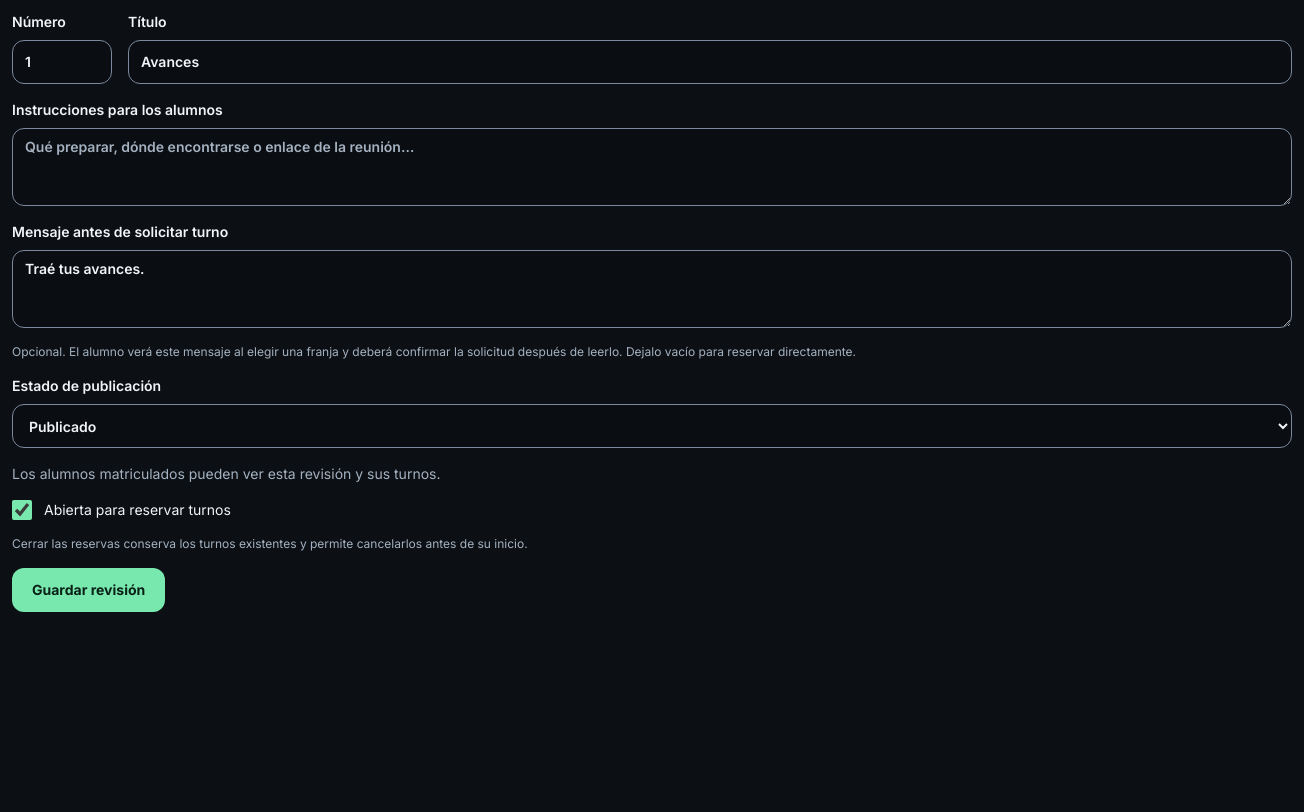
Test: formularios de revisiones › permite consultar y quitar un mensaje existente
Clear the text box labelled "Mensaje antes de solicitar turno": [652, 289] box [12,250,1292,328]
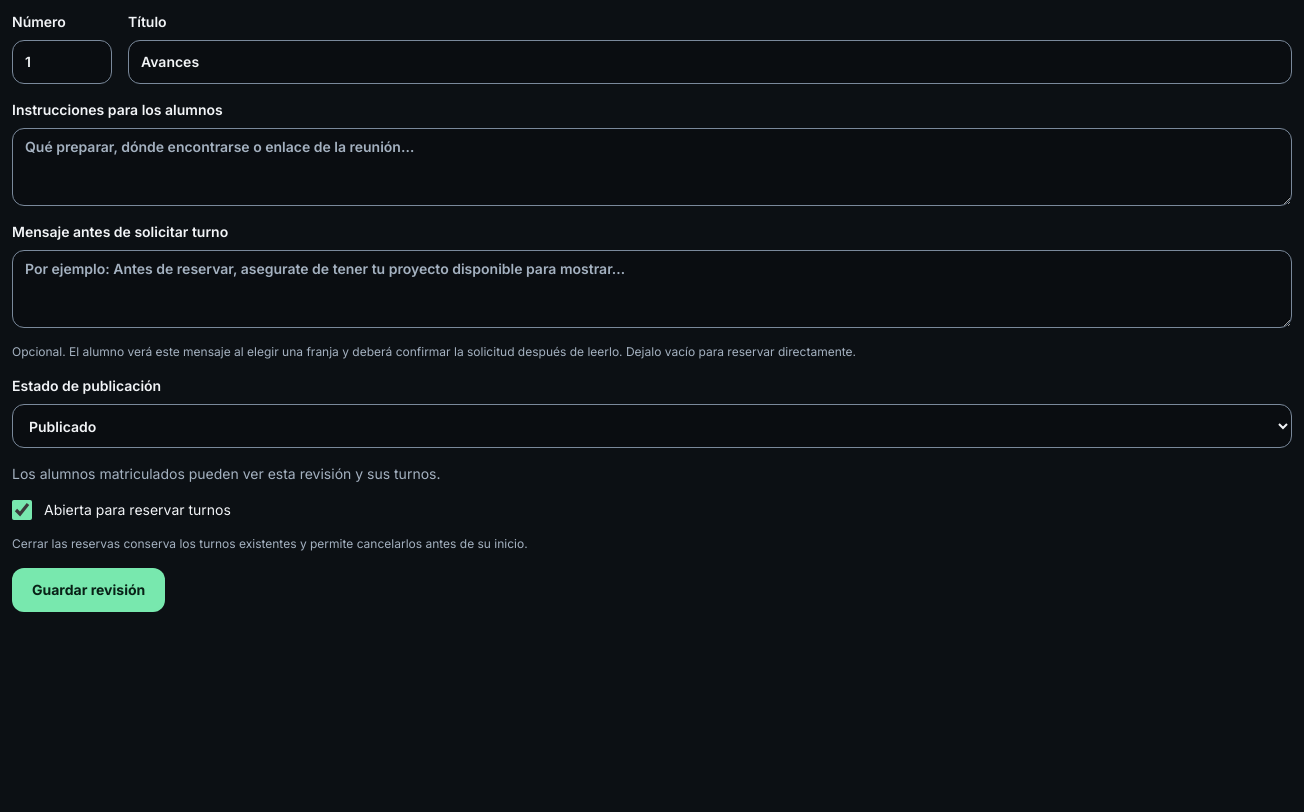
Click the button "Guardar revisión": [89, 590] box [12,568,165,612]
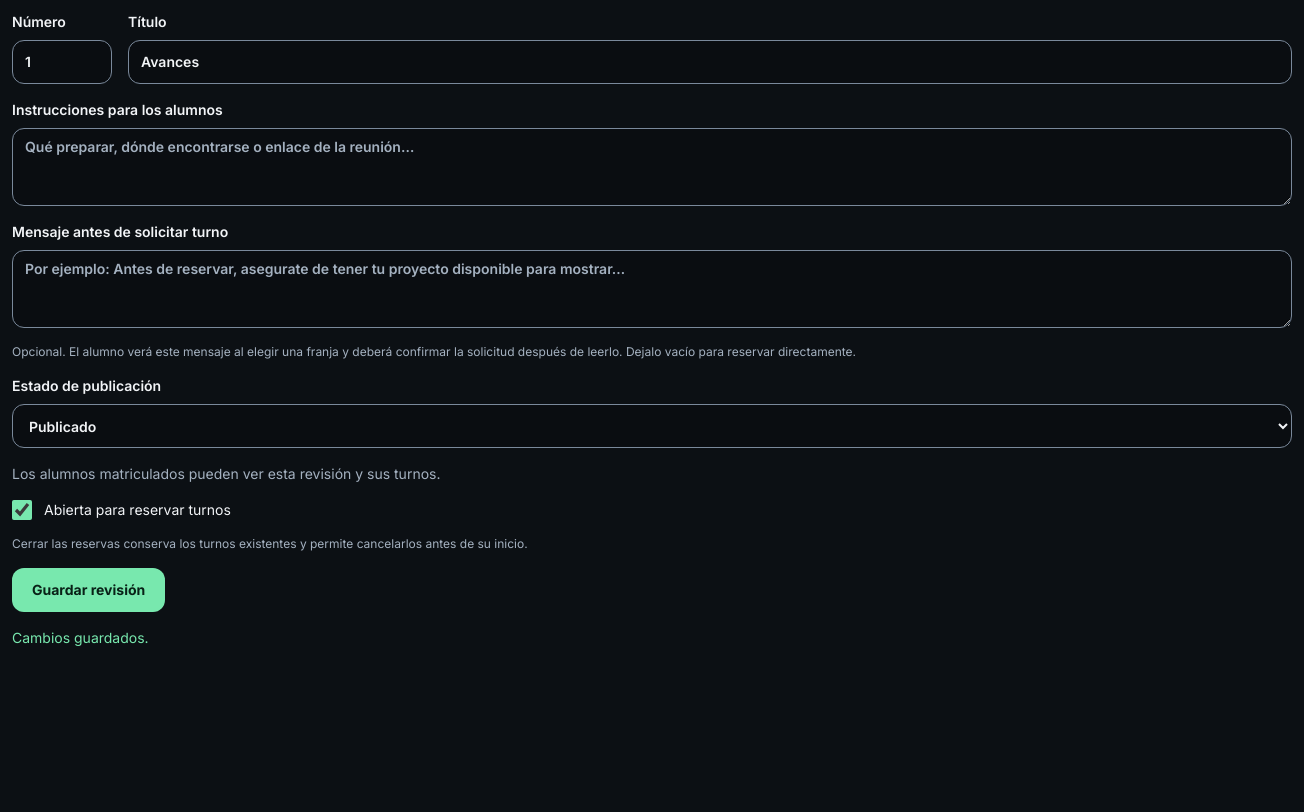
Expected: the text "Cambios guardados." is shown, [12,629,149,646]
